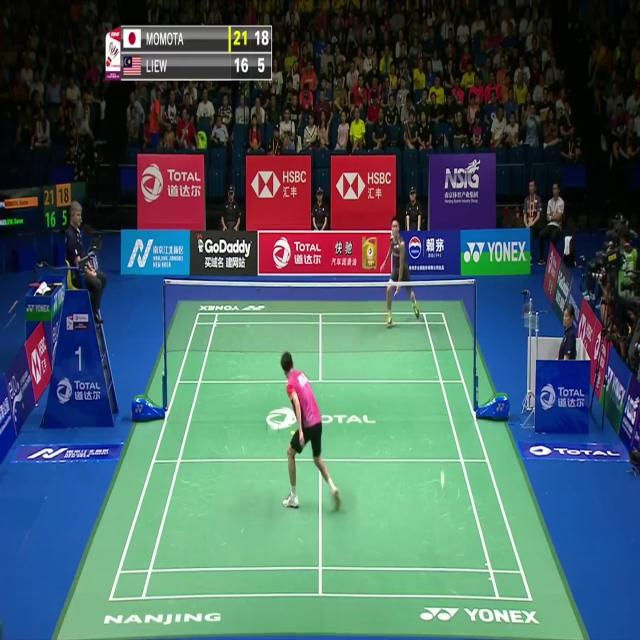Shuttlecock: (439, 474, 445, 486)
